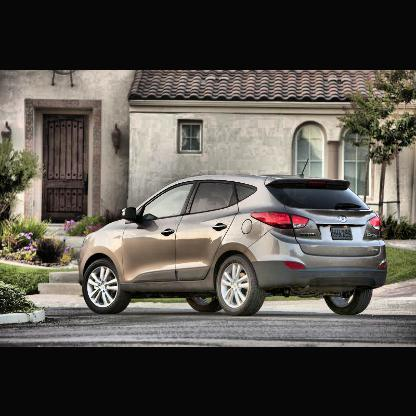Hyundai Tucson SUV 2012: (78, 160, 390, 319)
